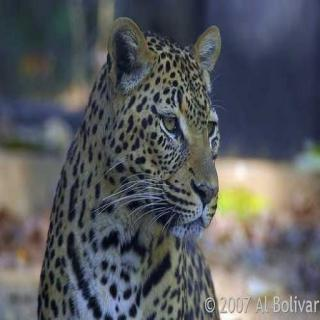Leopard: (83, 7, 262, 320)
